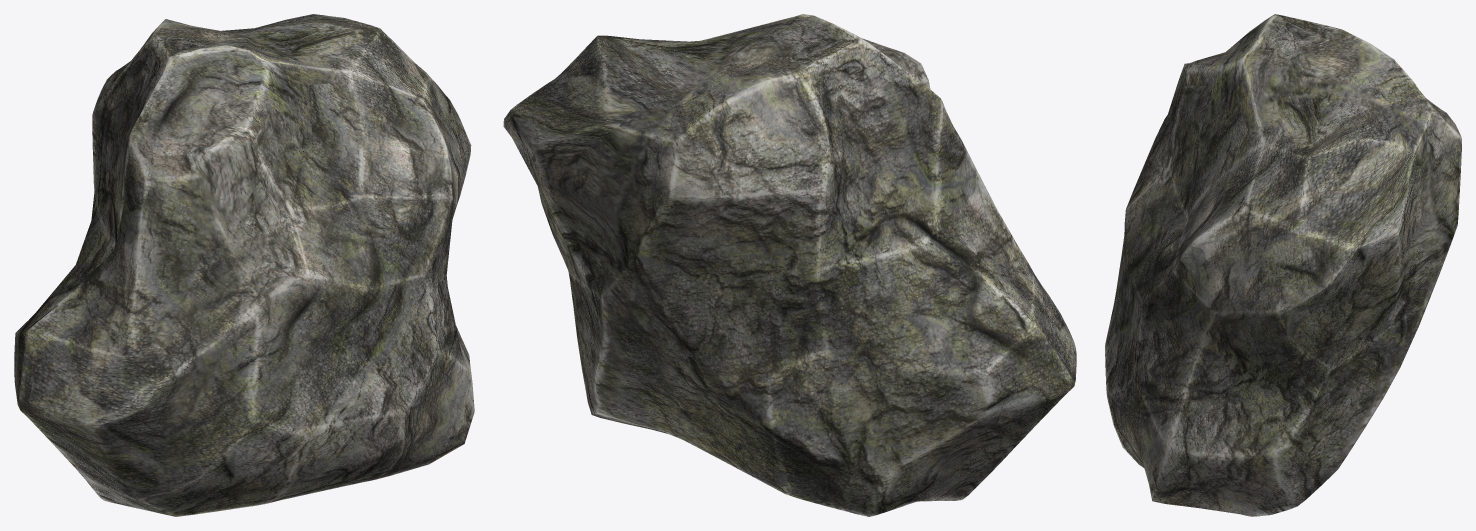
The model's file is rock1_LOD0.FBX.
The picture shows the model from 3 angles, left to right: view 1: azimuth 30°, elevation 25°; view 2: azimuth 150°, elevation 25°; view 3: azimuth 270°, elevation 25°; orthographic projection. The views are drawn at different scales.
Parts seen in each view (by area): view 1: rock1_LOD0; view 2: rock1_LOD0; view 3: rock1_LOD0.
Boxes of the visible parts, <box> form: rock1_LOD0: <box>14,14,474,516</box>; rock1_LOD0: <box>503,14,1076,516</box>; rock1_LOD0: <box>1105,14,1461,516</box>.
Bounding box in the file's own units: 508 × 440 × 341.
